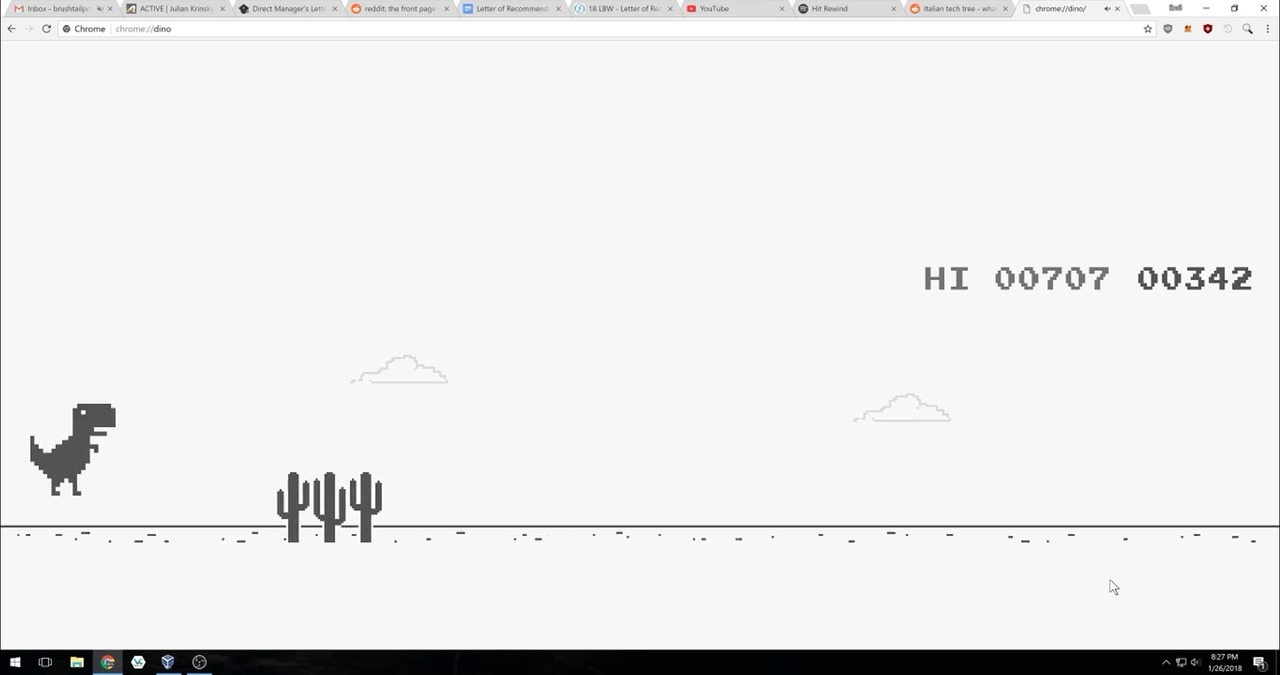cactus: (273, 468, 388, 545)
dinosaur: (31, 397, 114, 498)
